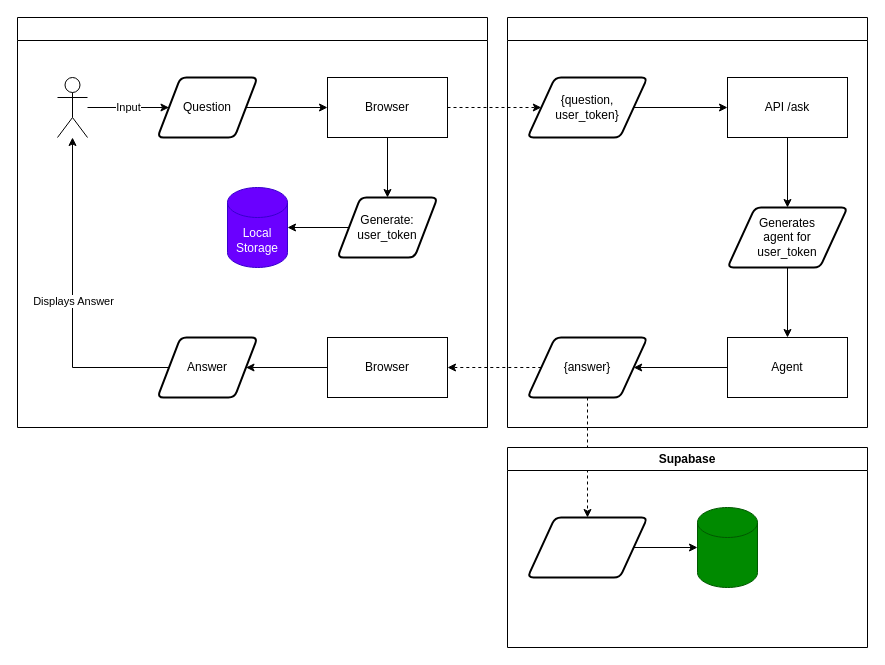
Image size: 885x665. Some labels were removed from this diagram. Here are the shapes that lost their labels. From the top down, the centre of each, then its label:
At point 252,222: "Example Client: DeFiChainWiki".
At point 687,222: "Fly.io".
At point 587,547: "Question & Answer".
At point 727,547: "Postgre Database".
